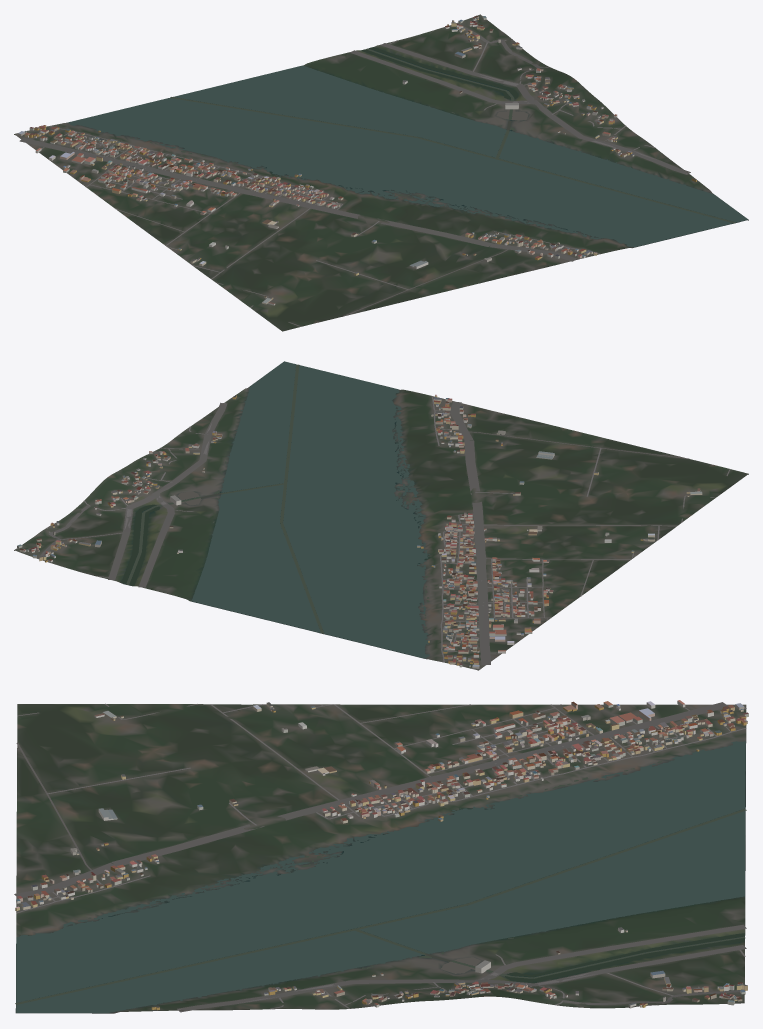
3 renders of one model, top to bottom at view 1: azimuth 30°, elevation 25°; view 2: azimuth 150°, elevation 25°; view 3: azimuth 270°, elevation 25°, orthographic. The views are drawn at different scales.
Parts seen in each view (by area): view 1: ground, water, buildings, roads; view 2: ground, water, buildings, roads; view 3: ground, water, buildings, roads.
Boxes of the visible parts, <box> form: ground: <box>14,14,748,331</box>; water: <box>67,47,747,247</box>; buildings: <box>18,15,696,305</box>; roads: <box>16,23,690,326</box>; ground: <box>14,367,748,670</box>; water: <box>121,361,430,658</box>; buildings: <box>17,394,702,668</box>; roads: <box>38,396,730,669</box>; ground: <box>15,704,746,1013</box>; water: <box>15,741,746,1012</box>; buildings: <box>15,700,748,1010</box>; roads: <box>14,702,746,1012</box>.
Bounding box in the file's own units: 1416 × 39.8 × 1413.
